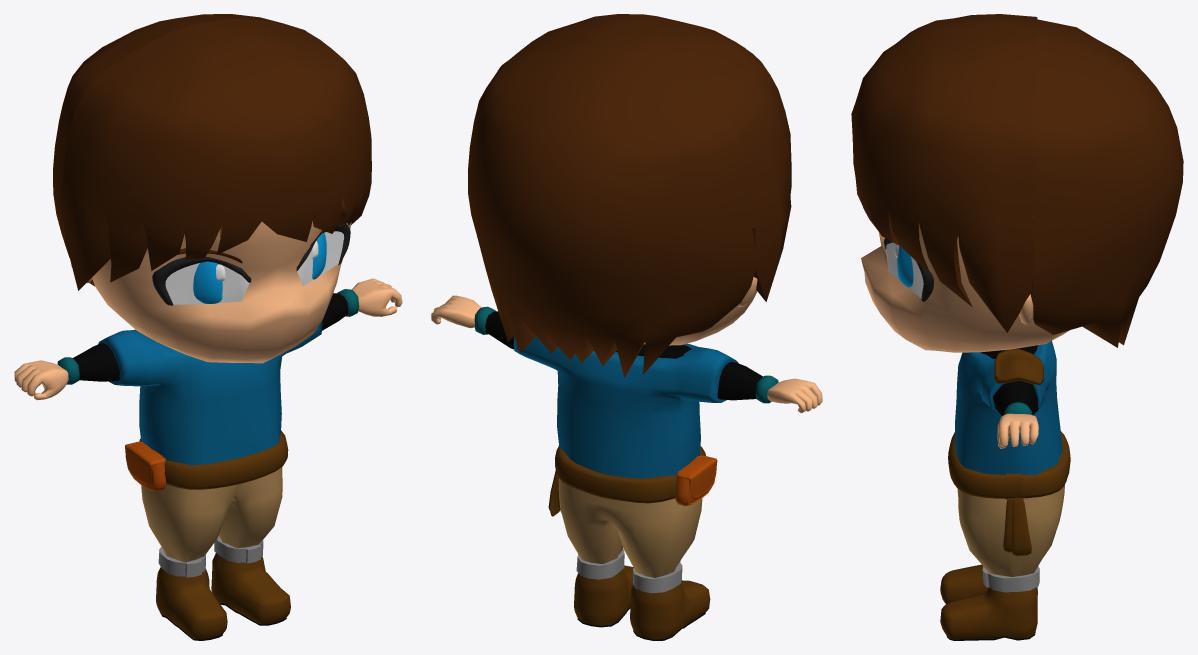
The model's file is syujinkou.fbx.
The picture shows the model from 3 angles, left to right: view 1: azimuth 30°, elevation 25°; view 2: azimuth 150°, elevation 25°; view 3: azimuth 270°, elevation 25°; orthographic projection.
Visible parts, largest first — view 1: hair_front, hed1, wear, pants, hair_back, L_shoes, R_shoes, belt, body, R_eye_dodai, R_hand, L_hand (+6 smaller); view 2: hair_back, hair_front, wear, pants, R_shoes, belt, L_shoes, body, R_hand, pouch_huta, L_hand, R_shoes_belt (+2 smaller); view 3: hair_front, hair_back, hed1, wear, pants, L_shoes, belt, shoulder_pad, R_shoes, body, L_hand, L_shoes_belt (+3 smaller).
Boxes of the visible parts, left/top/right/bottom form: hair_front: left=60, top=18, right=371, bottom=290; hed1: left=92, top=221, right=351, bottom=363; wear: left=98, top=321, right=322, bottom=465; pants: left=141, top=467, right=282, bottom=562; hair_back: left=53, top=14, right=305, bottom=286; L_shoes: left=211, top=553, right=290, bottom=625; R_shoes: left=156, top=567, right=227, bottom=640; belt: left=139, top=430, right=288, bottom=489; body: left=73, top=293, right=348, bottom=381; R_eye_dodai: left=165, top=263, right=249, bottom=304; R_hand: left=14, top=360, right=68, bottom=400; L_hand: left=351, top=278, right=402, bottom=316; hair_back: left=468, top=47, right=756, bottom=378; hair_front: left=498, top=14, right=791, bottom=301; wear: left=513, top=336, right=738, bottom=478; pants: left=558, top=478, right=702, bottom=577; R_shoes: left=630, top=580, right=710, bottom=640; belt: left=555, top=446, right=705, bottom=503; L_shoes: left=574, top=565, right=633, bottom=627; body: left=485, top=311, right=762, bottom=400; R_hand: left=767, top=378, right=822, bottom=413; pouch_huta: left=676, top=455, right=717, bottom=499; L_hand: left=431, top=295, right=481, bottom=328; R_shoes_belt: left=633, top=561, right=682, bottom=593; hair_front: left=851, top=14, right=1037, bottom=332; hair_back: left=1030, top=19, right=1183, bottom=347; hed1: left=861, top=223, right=1069, bottom=352; wear: left=955, top=341, right=1062, bottom=475; pants: left=957, top=453, right=1064, bottom=576; L_shoes: left=940, top=587, right=1037, bottom=640; belt: left=948, top=431, right=1070, bottom=498; shoulder_pad: left=994, top=349, right=1043, bottom=384; R_shoes: left=940, top=564, right=1037, bottom=604; body: left=980, top=345, right=1038, bottom=415; L_hand: left=997, top=413, right=1038, bottom=448; L_shoes_belt: left=982, top=566, right=1039, bottom=592.
Size of the model in its own units: 111 by 163 by 84.03.
